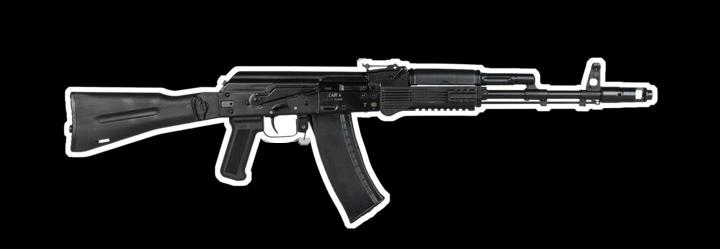larga: (68, 59, 656, 226)
